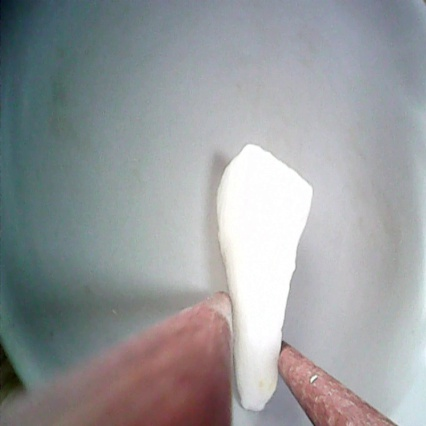white_chinese-yam: (214, 141, 315, 413)
